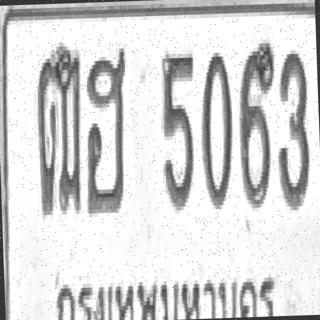A18: (34, 42, 86, 215)
A44: (80, 44, 130, 213)
N00: (198, 48, 235, 209)
N03: (274, 48, 311, 208)
N05: (159, 49, 199, 210)
N06: (236, 39, 278, 208)
